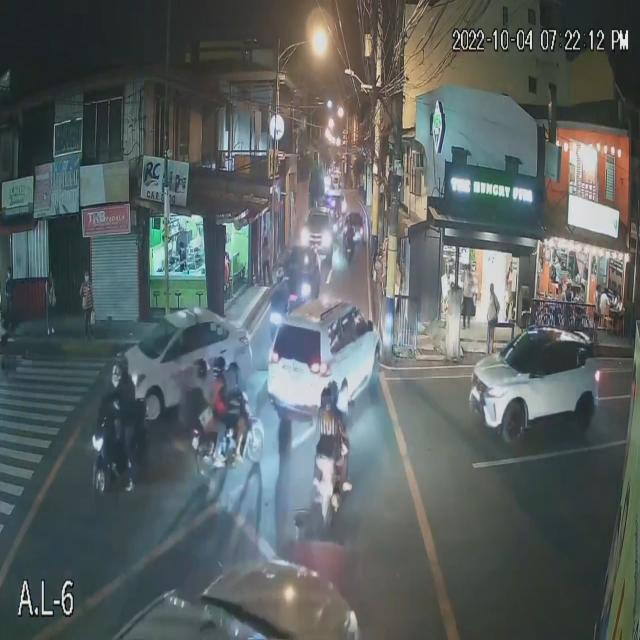Full-Faced: (108, 352, 131, 386), (192, 356, 210, 389), (210, 352, 229, 382), (319, 391, 331, 413), (328, 382, 338, 403)
